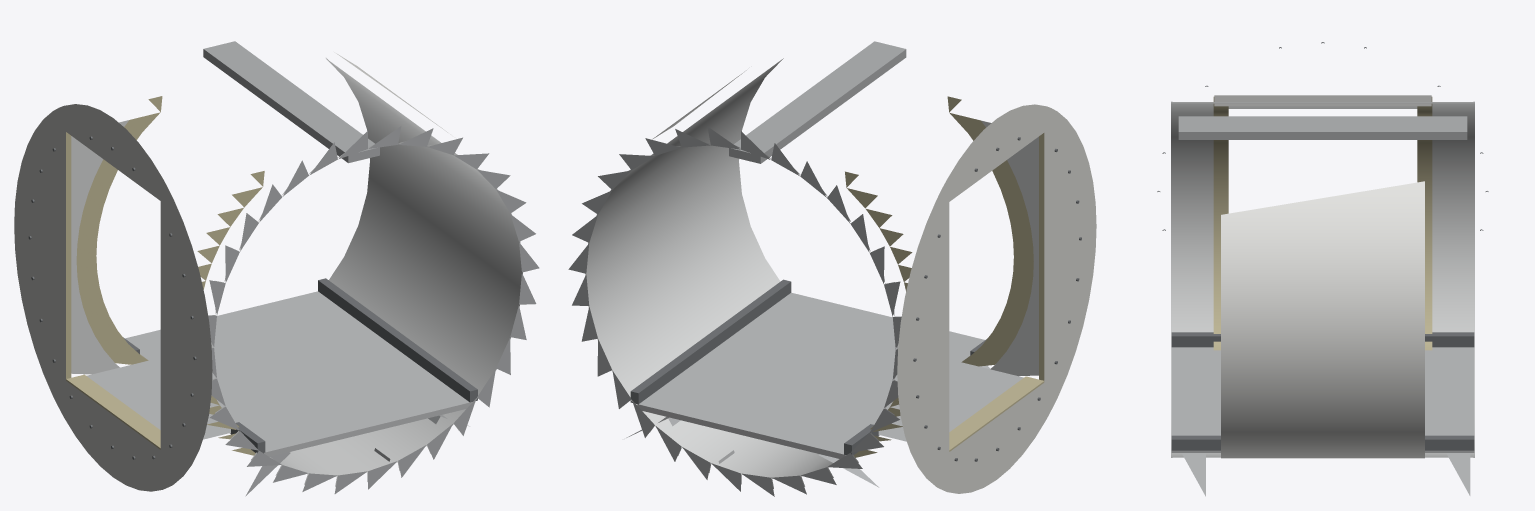
The model's file is habSegJL_steel_meshin.glb.
3 views of the same model, side by side, from view 1: azimuth 30°, elevation 25°; view 2: azimuth 150°, elevation 25°; view 3: azimuth 270°, elevation 25° (orthographic).
Visible parts, largest first — view 1: habSegJL_steel_meshin; view 2: habSegJL_steel_meshin; view 3: habSegJL_steel_meshin.
Part boxes in pixels (<box>): habSegJL_steel_meshin: <box>14,41,539,496</box>; habSegJL_steel_meshin: <box>568,41,1096,496</box>; habSegJL_steel_meshin: <box>1157,42,1488,496</box>.
Size of the model in its own units: 2.66 by 2.6 by 2.6.
